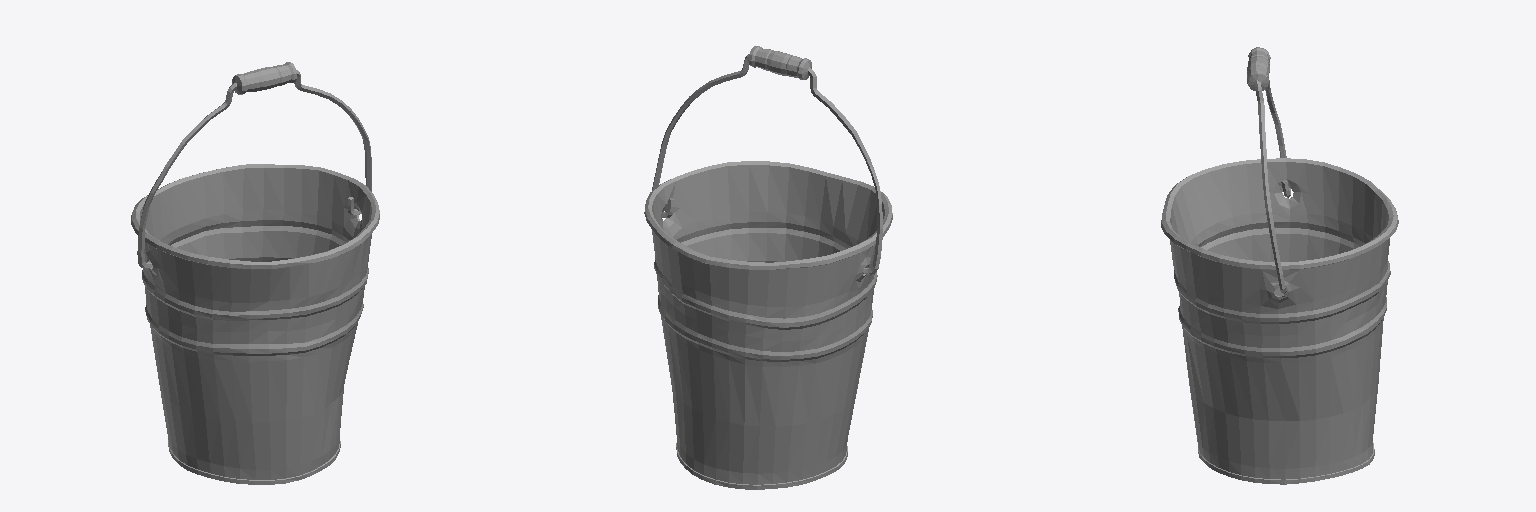
File: Bucket.obj
3 renders of one model, left to right at view 1: azimuth 30°, elevation 25°; view 2: azimuth 150°, elevation 25°; view 3: azimuth 270°, elevation 25°, orthographic.
Visible parts, largest first — view 1: bucket; view 2: bucket; view 3: bucket.
Part boxes in pixels (bbox=[...]): bucket: bbox=[131, 62, 379, 484]; bucket: bbox=[644, 46, 892, 489]; bucket: bbox=[1161, 47, 1398, 484].
Size of the model in its own units: 0.6392 by 1.03 by 0.5669.